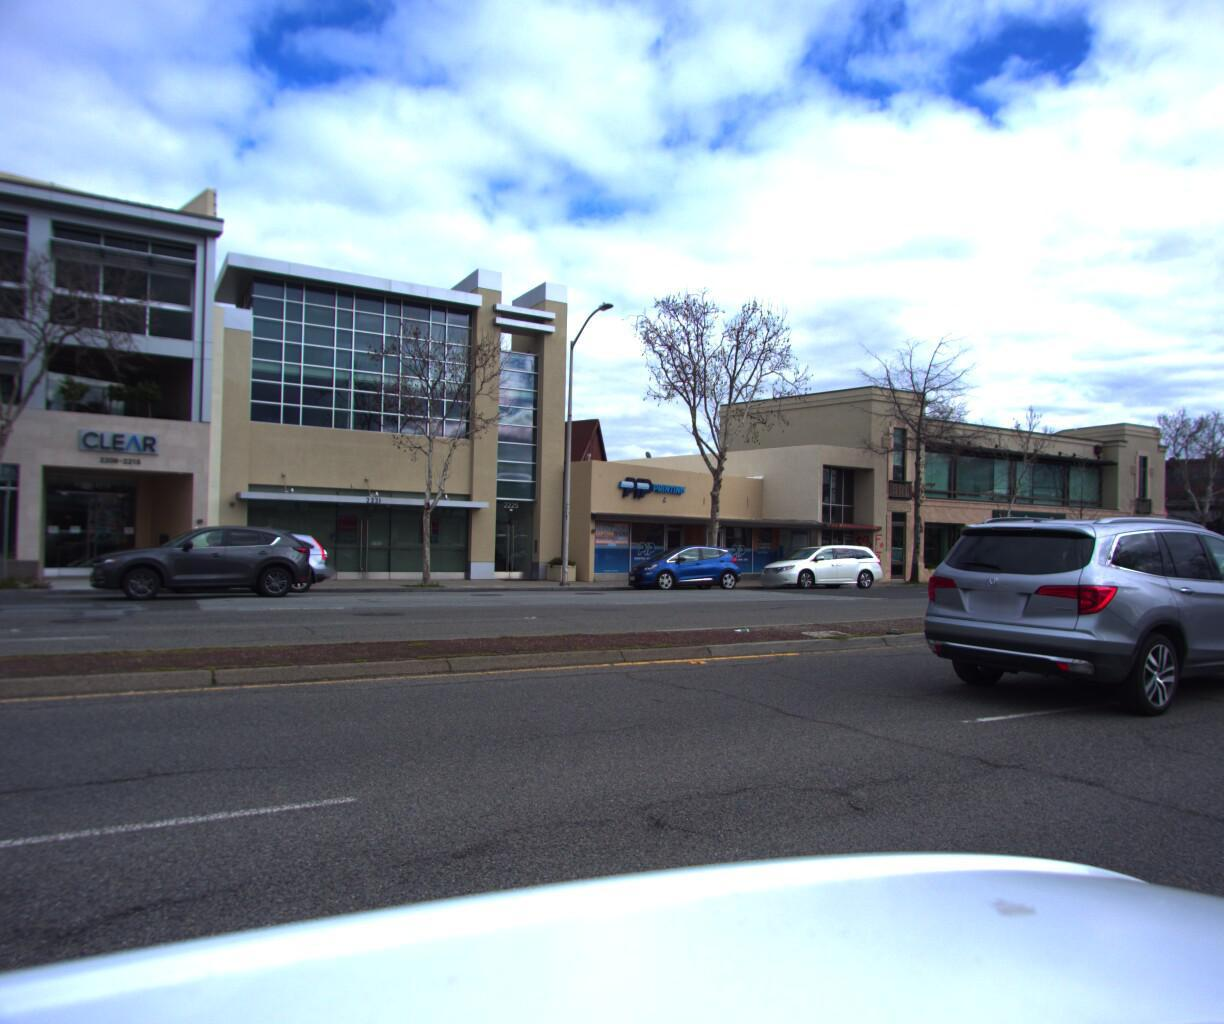car: (900, 500, 1224, 731), (85, 520, 315, 600), (140, 522, 343, 597), (742, 535, 890, 586), (612, 537, 750, 590), (1163, 544, 1224, 584)
